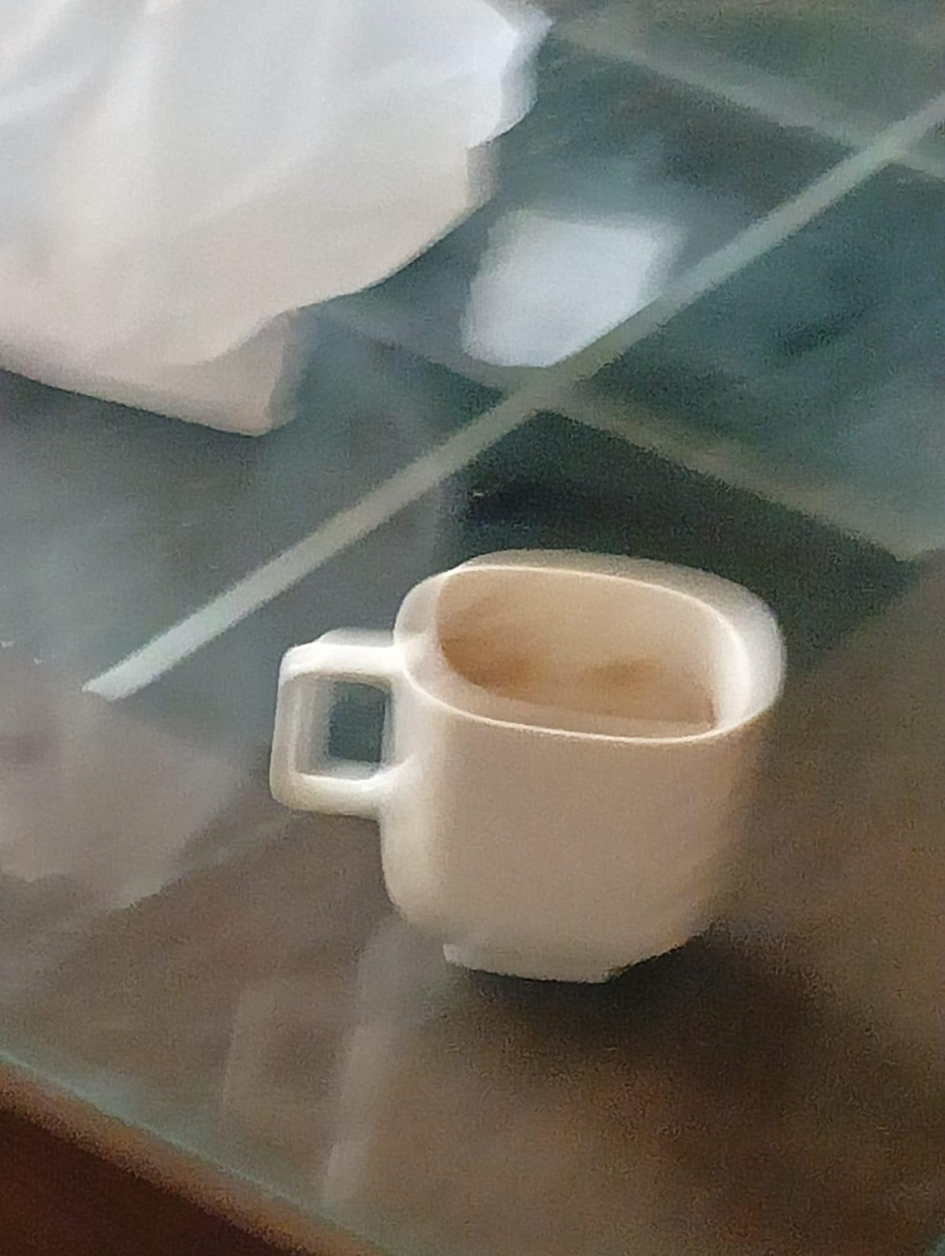cup: (270, 550, 784, 982), (425, 546, 779, 754)
